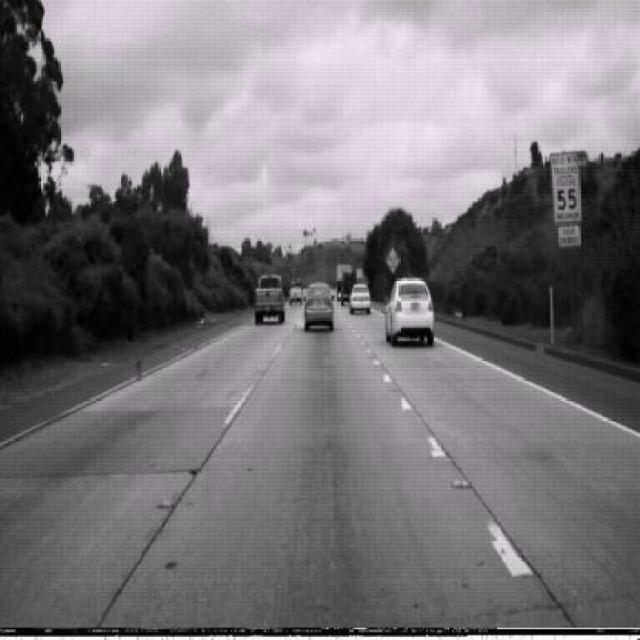truckSpeedLimit55: (549, 149, 583, 226)
